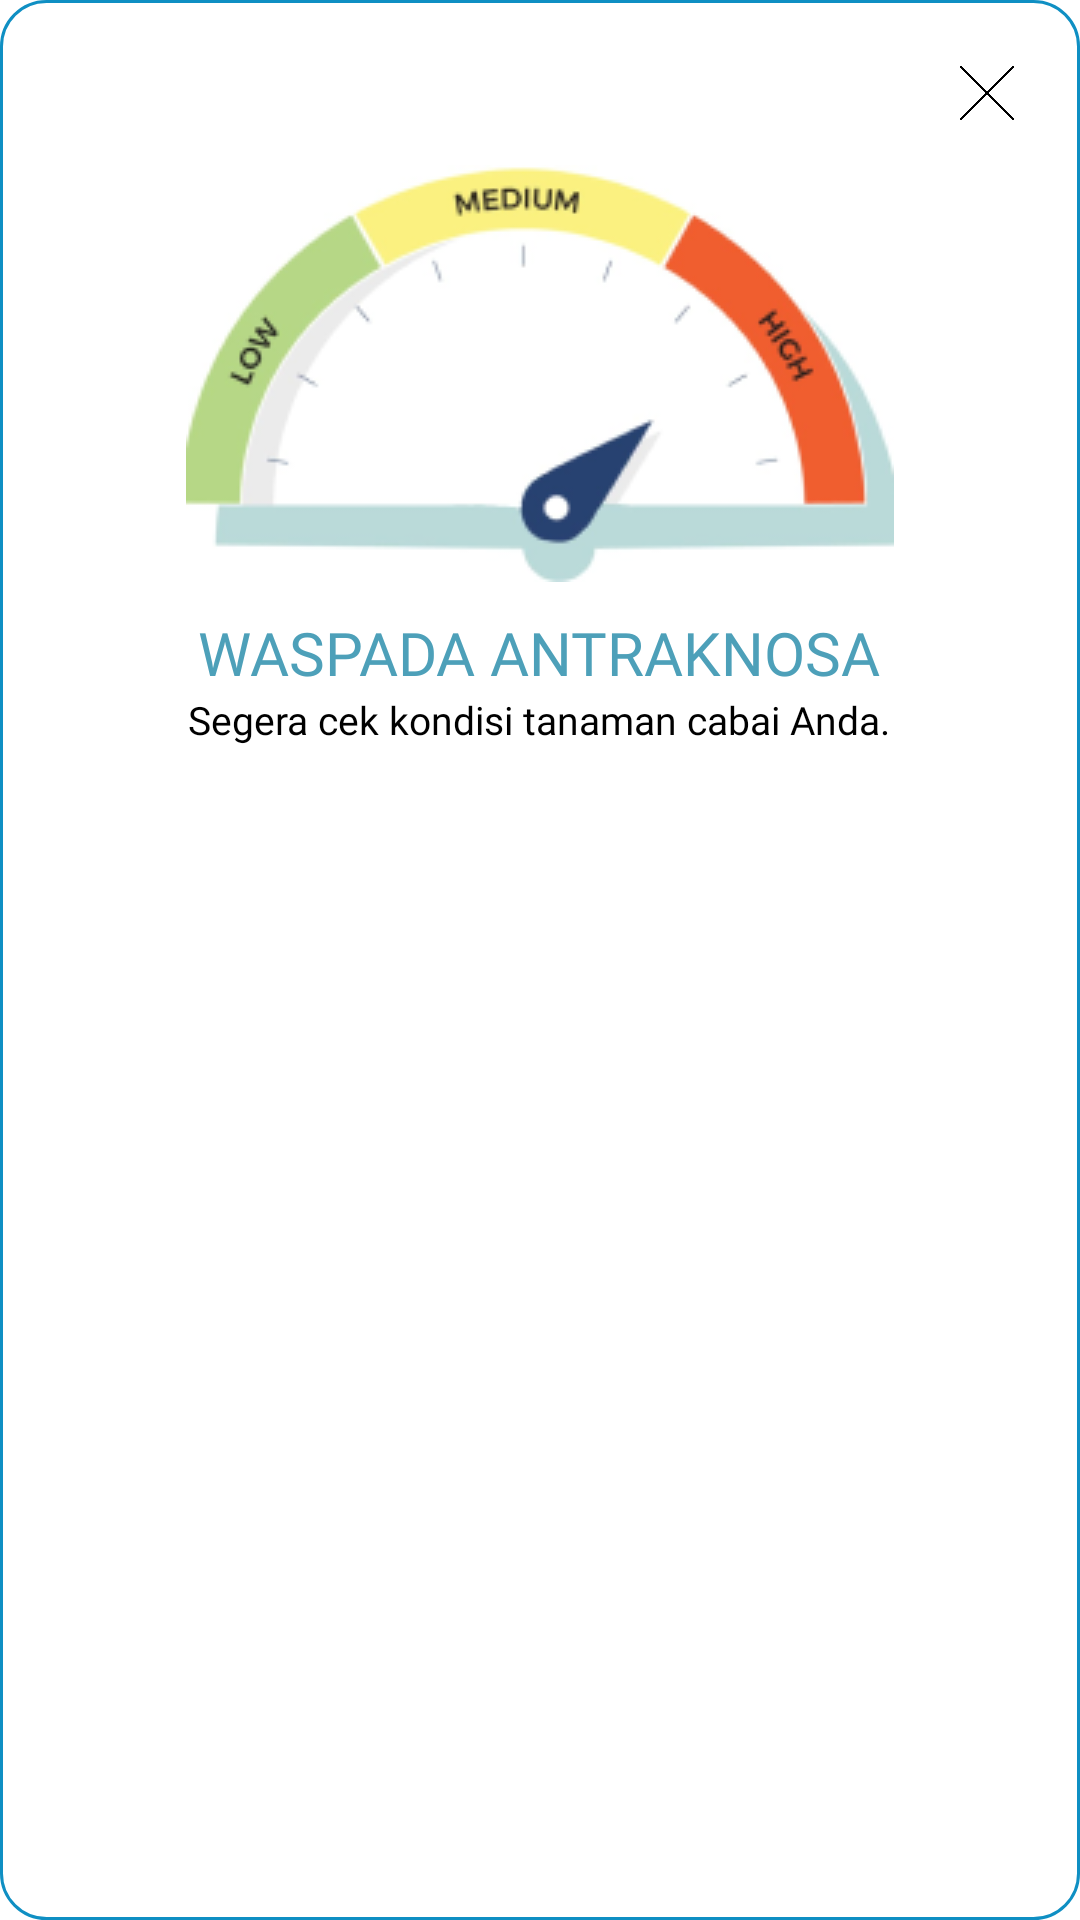

Icons on this 1080px x 1920px Android screen, each with the point to tap as point (x, y):
cancel remove: point (987, 93)
